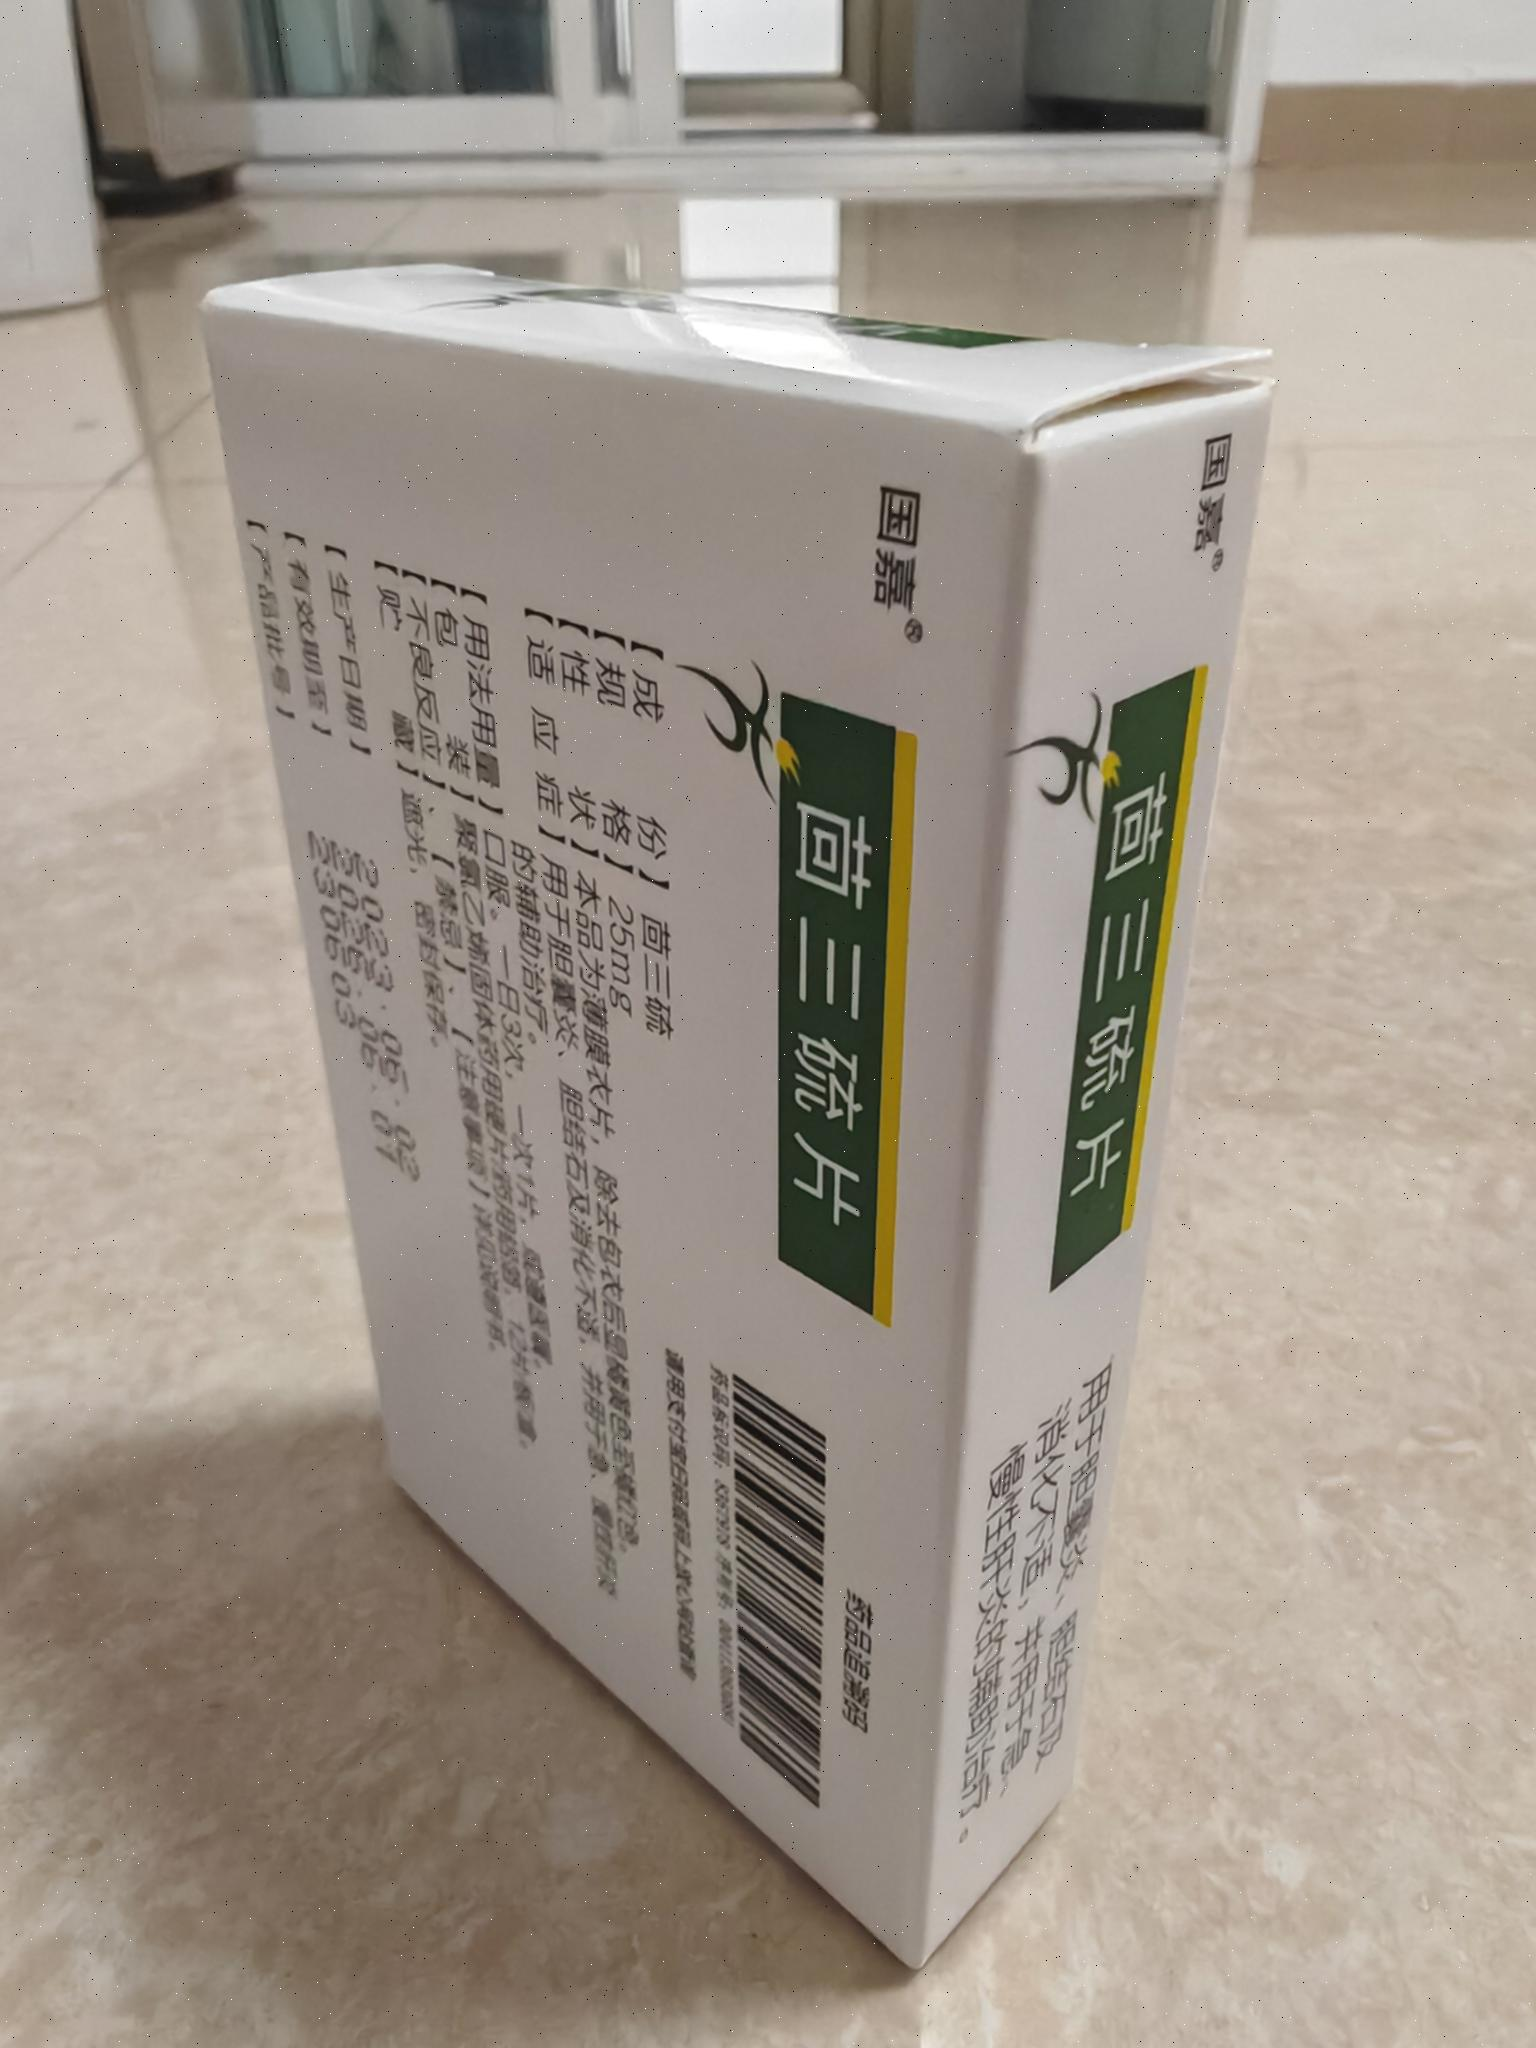Medicine4: (181, 229, 1312, 1995)
